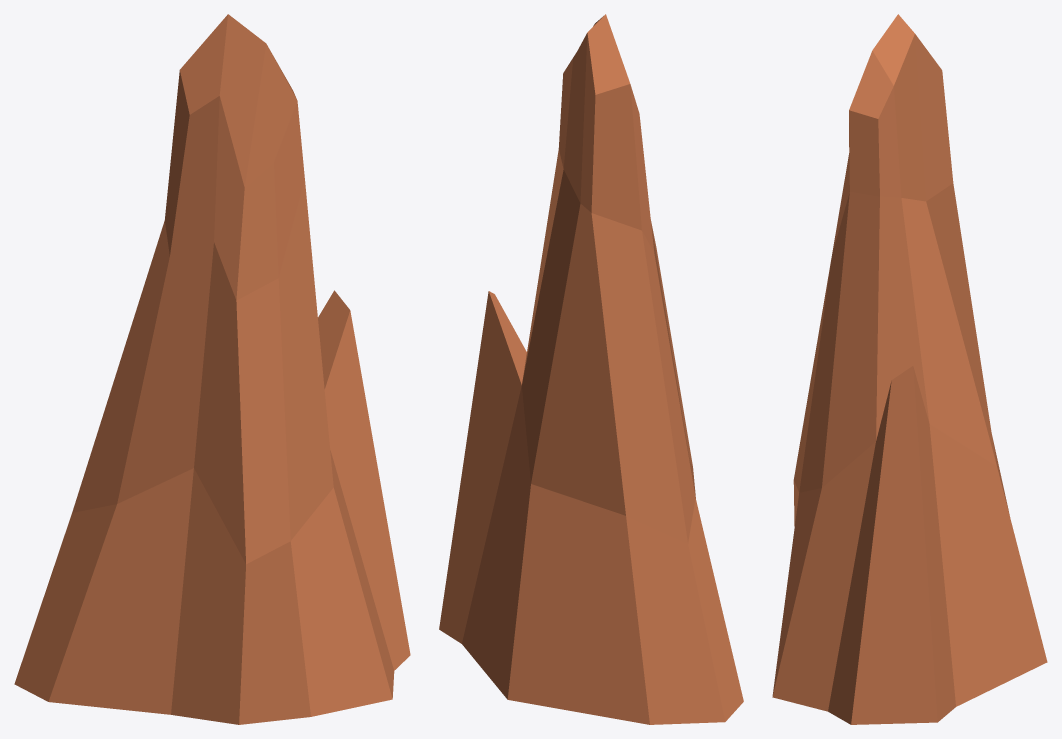
The model's file is Stalagmite_4.fbx.
3 renders of one model, left to right at view 1: azimuth 30°, elevation 25°; view 2: azimuth 150°, elevation 25°; view 3: azimuth 270°, elevation 25°, orthographic. The views are drawn at different scales.
Parts seen in each view (by area): view 1: Stalagmite_4; view 2: Stalagmite_4; view 3: Stalagmite_4.
Boxes of the visible parts, x1=… form: Stalagmite_4: x1=14, y1=14, x2=410, y2=724; Stalagmite_4: x1=439, y1=14, x2=743, y2=724; Stalagmite_4: x1=772, y1=14, x2=1047, y2=724.
Size of the model in its own units: 108 by 208 by 81.6.
